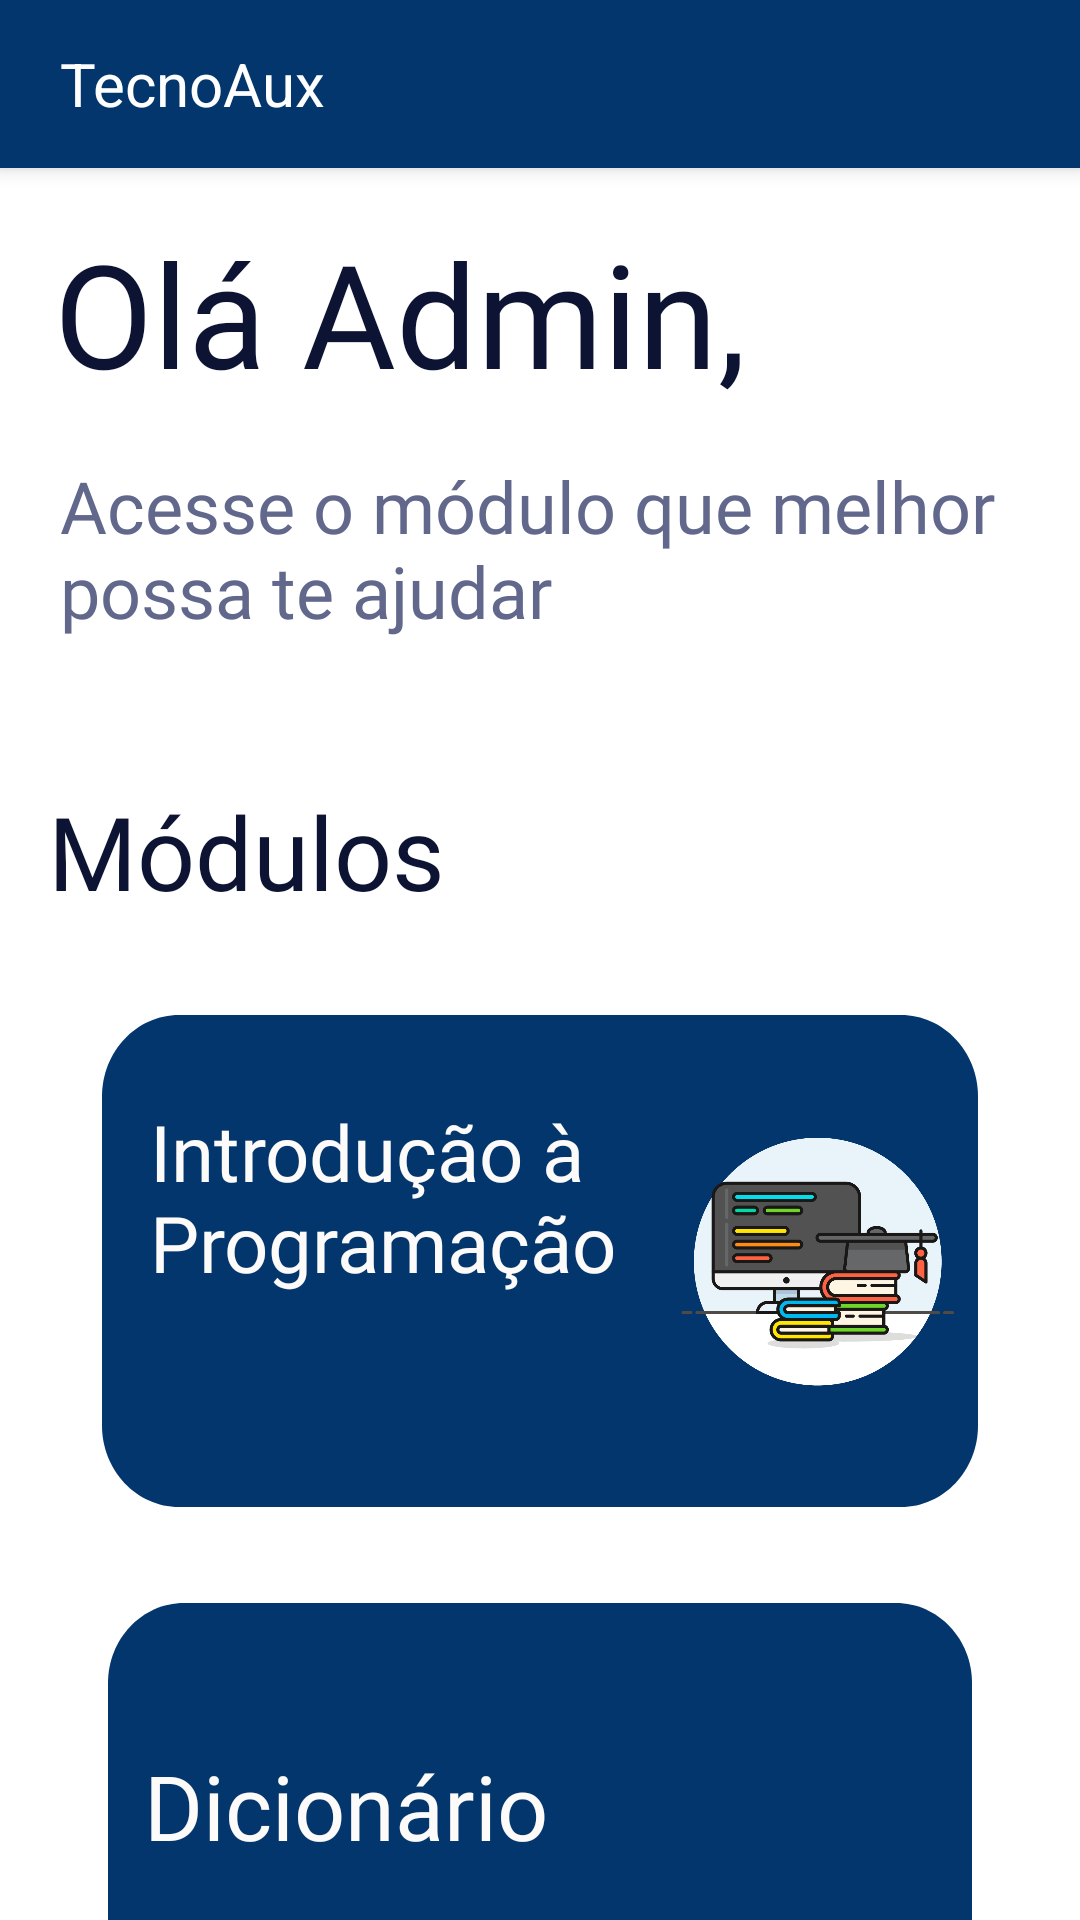

Icon bounding boxes for this 1080 x 1920 phone screenshot, format (x1, y1, x2, y2):
comp: (681, 1138, 954, 1386)
